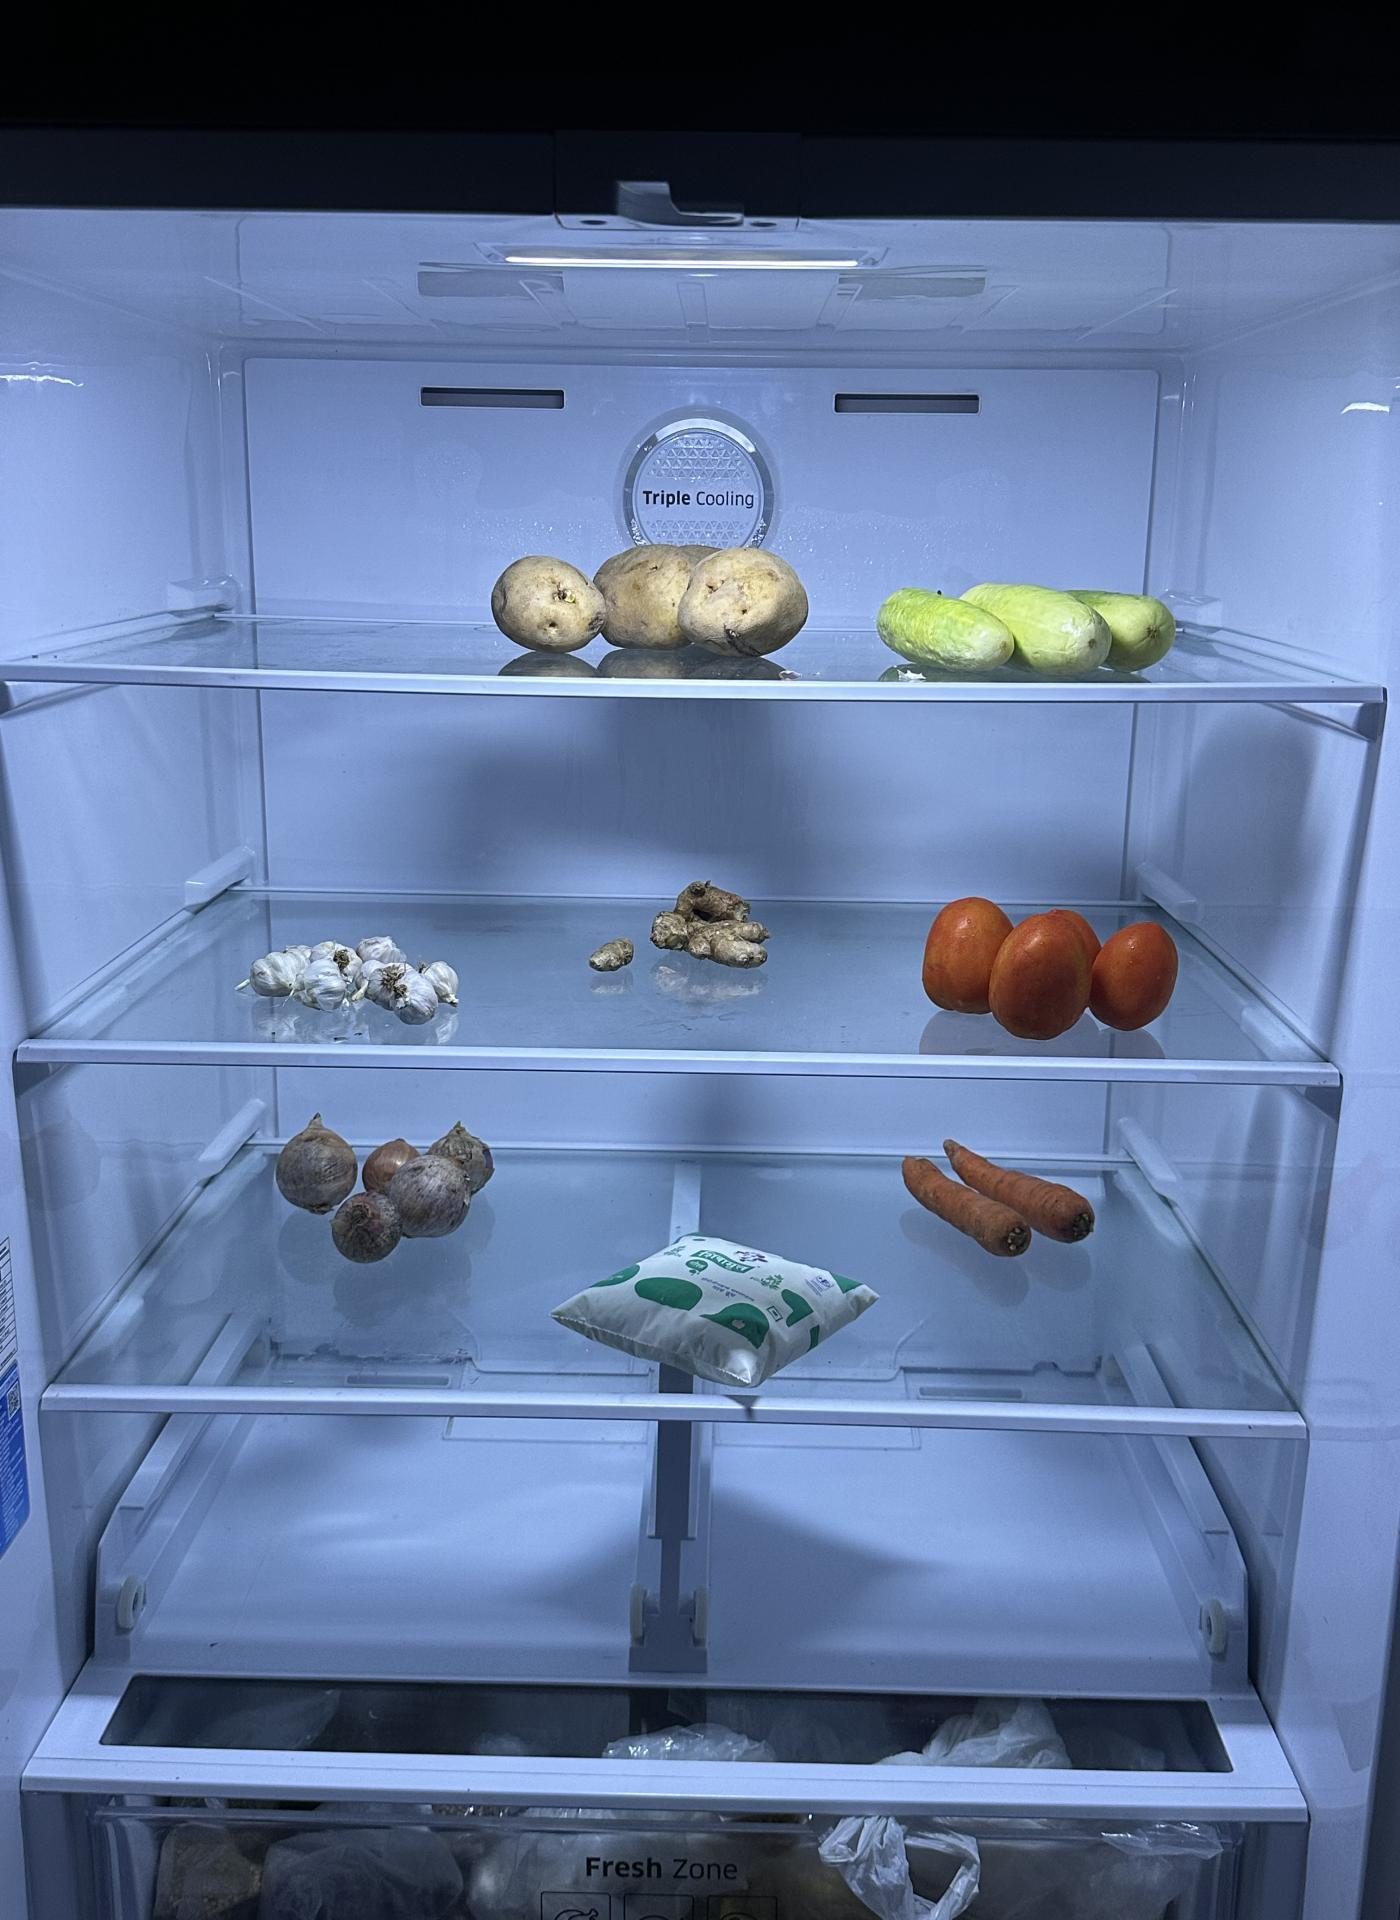carrots: (896, 1125, 1097, 1255)
cucumber: (874, 569, 1176, 680)
garlic: (256, 933, 462, 1029)
ginger: (602, 868, 774, 981)
milk: (552, 1225, 877, 1379)
onion: (271, 1114, 491, 1260)
potato: (496, 540, 804, 659)
tomato: (914, 878, 1182, 1035)
